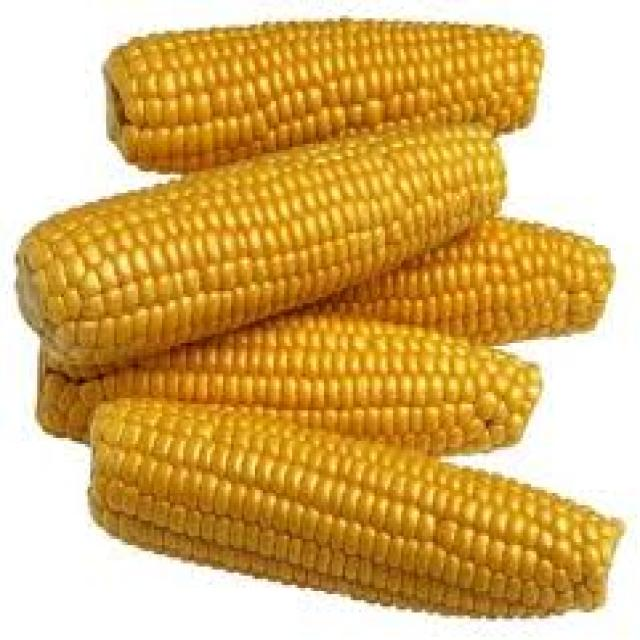corn: (11, 12, 634, 631)
